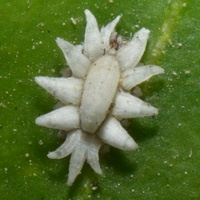insect: (35, 9, 163, 185)
